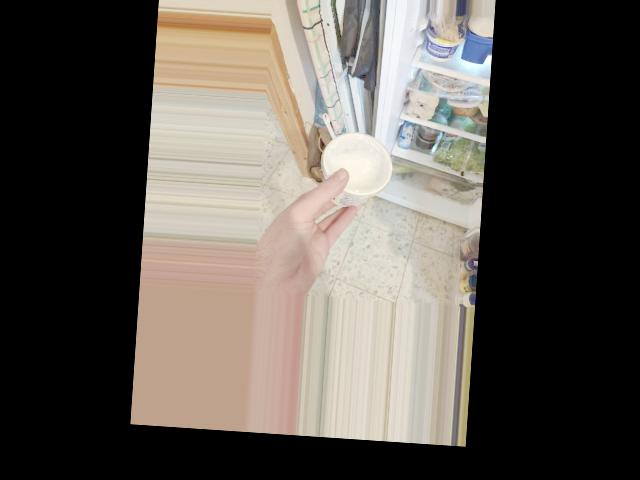cotage: (313, 125, 386, 215)
